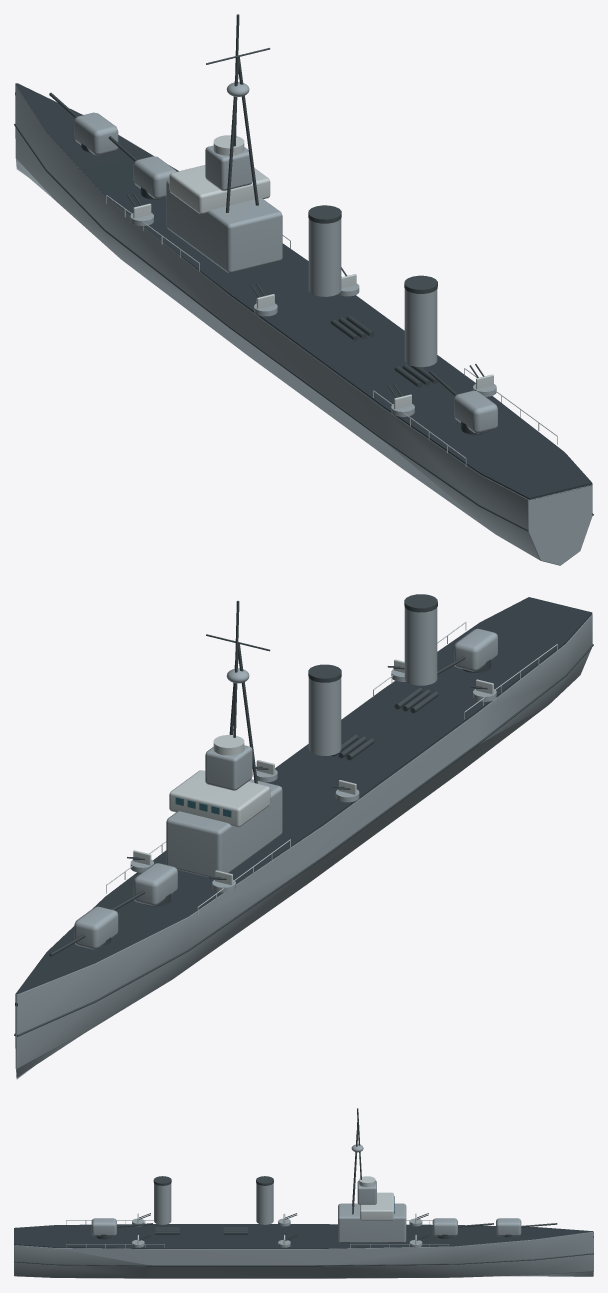
The model's file is generic-ww2-destroyer.glb.
The picture shows the model from 3 angles, top to bottom: view 1: azimuth 30°, elevation 25°; view 2: azimuth 150°, elevation 25°; view 3: azimuth 270°, elevation 25°; orthographic projection. The views are drawn at different scales.
Visible parts, largest first — view 1: ww2-destroyer_Hull, ww2-destroyer_MainDeck, ww2-destroyer_LowerBridge, ww2-destroyer_Wheelhouse, ww2-destroyer_Funnel, ww2-destroyer_Funnel.001, ww2-destroyer_DirectorTower, ww2-destroyer_NavalGunTurret.002, ww2-destroyer_NavalGunTurret, ww2-destroyer_NavalGunTurret.001; view 2: ww2-destroyer_Hull, ww2-destroyer_MainDeck, ww2-destroyer_LowerBridge, ww2-destroyer_Wheelhouse, ww2-destroyer_Funnel, ww2-destroyer_Funnel.001, ww2-destroyer_DirectorTower, ww2-destroyer_NavalGunTurret, ww2-destroyer_NavalGunTurret.001, ww2-destroyer_NavalGunTurret.002; view 3: ww2-destroyer_Hull, ww2-destroyer_MainDeck, ww2-destroyer_LowerBridge, ww2-destroyer_Wheelhouse, ww2-destroyer_Funnel, ww2-destroyer_Funnel.001, ww2-destroyer_NavalGunTurret, ww2-destroyer_NavalGunTurret.001, ww2-destroyer_NavalGunTurret.002, ww2-destroyer_DirectorTower, ww2-destroyer_Waterline.008.
Boxes of the visible parts, box(x1,y1,x2,y2) form: ww2-destroyer_Hull: box(15, 83, 592, 565); ww2-destroyer_MainDeck: box(15, 92, 592, 500); ww2-destroyer_LowerBridge: box(166, 179, 282, 272); ww2-destroyer_Wheelhouse: box(169, 165, 270, 213); ww2-destroyer_Funnel: box(308, 218, 341, 296); ww2-destroyer_Funnel.001: box(404, 288, 437, 367); ww2-destroyer_DirectorTower: box(205, 145, 252, 190); ww2-destroyer_NavalGunTurret.002: box(454, 390, 497, 433); ww2-destroyer_NavalGunTurret: box(74, 112, 118, 155); ww2-destroyer_NavalGunTurret.001: box(133, 156, 176, 198); ww2-destroyer_Hull: box(15, 614, 592, 1079); ww2-destroyer_MainDeck: box(15, 597, 592, 1006); ww2-destroyer_LowerBridge: box(166, 779, 282, 877); ww2-destroyer_Wheelhouse: box(169, 770, 270, 827); ww2-destroyer_Funnel: box(308, 677, 341, 755); ww2-destroyer_Funnel.001: box(404, 607, 437, 685); ww2-destroyer_DirectorTower: box(205, 745, 252, 790); ww2-destroyer_NavalGunTurret: box(74, 906, 118, 949); ww2-destroyer_NavalGunTurret.001: box(133, 863, 177, 905); ww2-destroyer_NavalGunTurret.002: box(454, 628, 497, 671); ww2-destroyer_Hull: box(14, 1224, 593, 1278); ww2-destroyer_MainDeck: box(14, 1224, 593, 1248); ww2-destroyer_LowerBridge: box(338, 1203, 406, 1242); ww2-destroyer_Wheelhouse: box(360, 1192, 393, 1220); ww2-destroyer_Funnel: box(256, 1183, 273, 1224); ww2-destroyer_Funnel.001: box(154, 1183, 171, 1224); ww2-destroyer_NavalGunTurret: box(496, 1218, 521, 1236); ww2-destroyer_NavalGunTurret.001: box(432, 1218, 457, 1236); ww2-destroyer_NavalGunTurret.002: box(91, 1218, 116, 1236); ww2-destroyer_DirectorTower: box(357, 1180, 376, 1204); ww2-destroyer_Waterline.008: box(153, 1265, 315, 1266).
Bounding box in the file's own units: 12.92 × 38.16 × 119.
